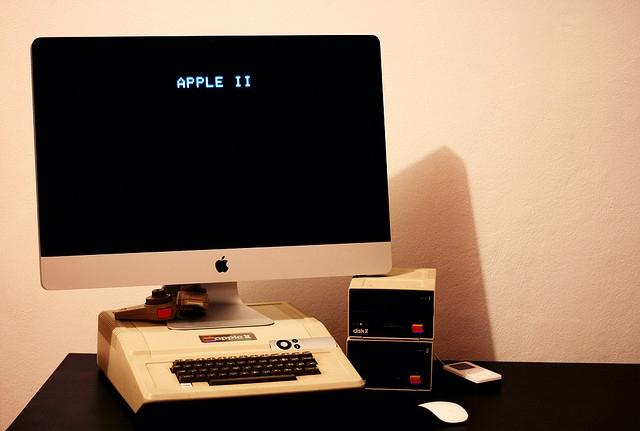apple: (216, 256, 228, 273), (412, 320, 424, 334), (410, 370, 420, 386), (203, 336, 217, 342)
